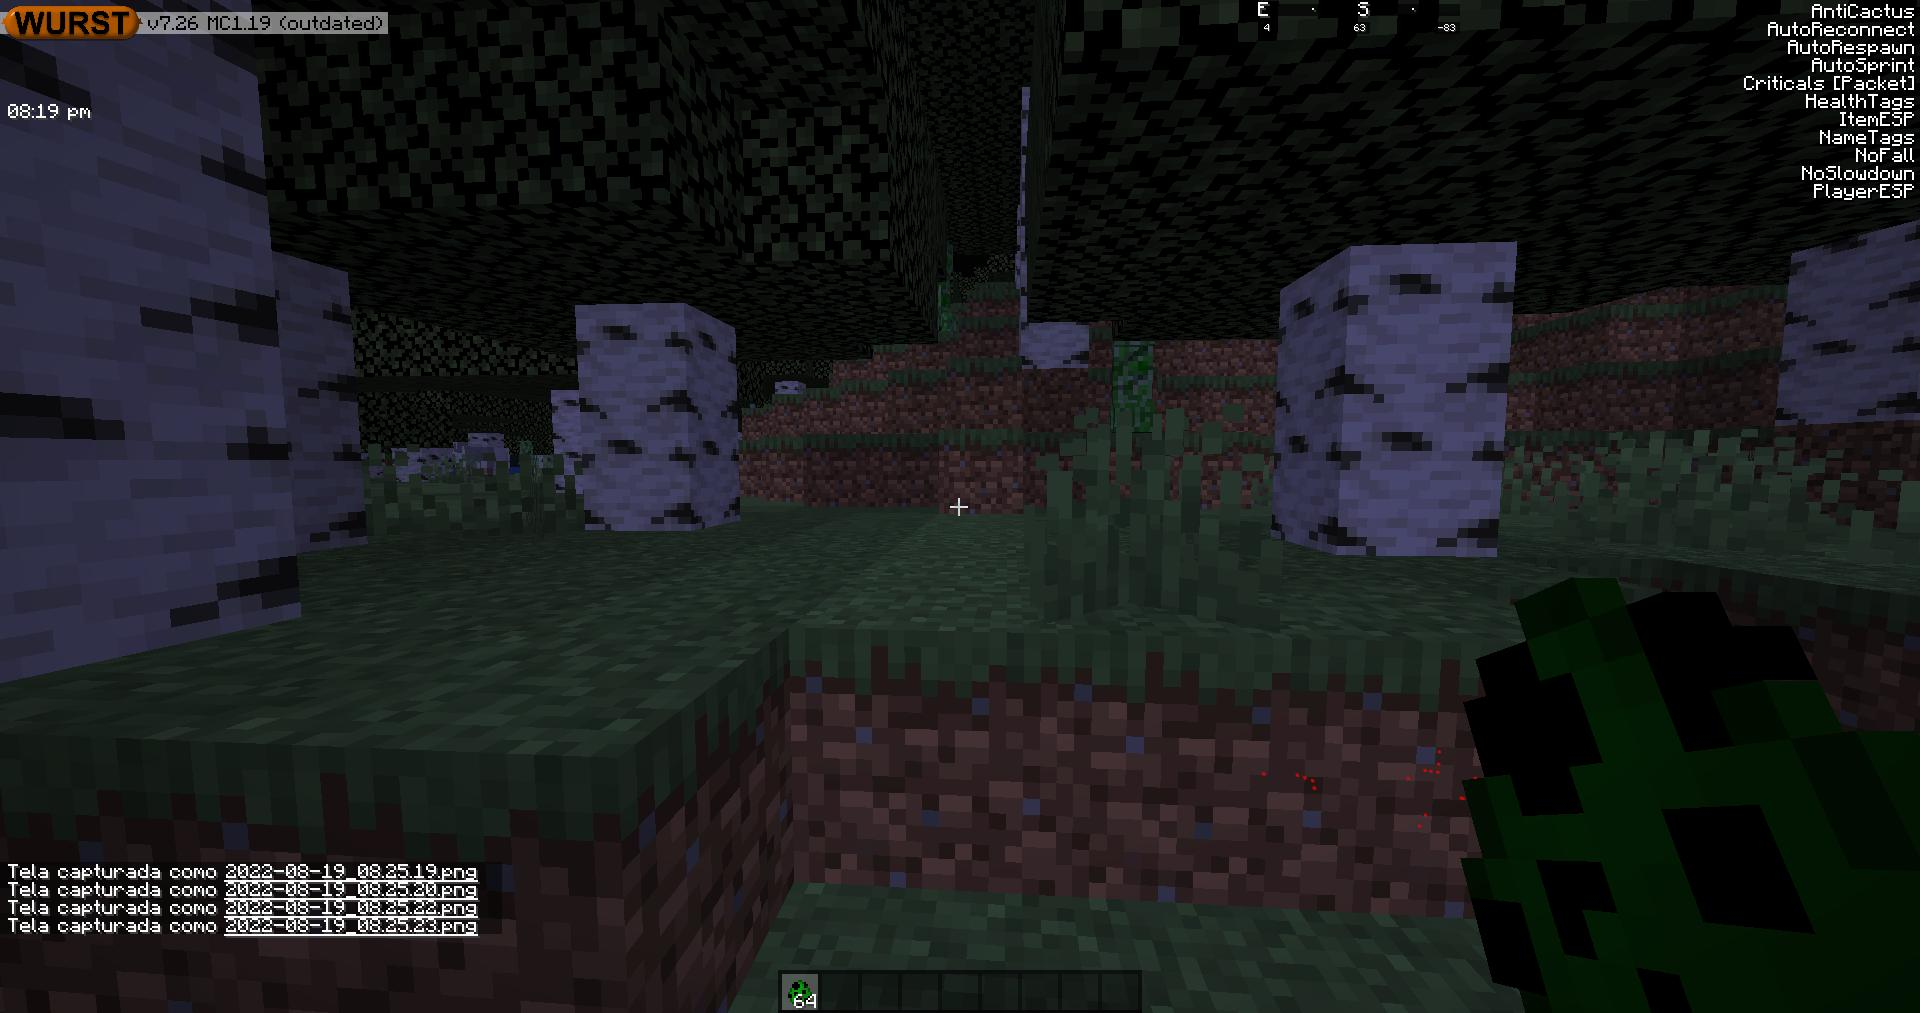creeper: (1106, 335, 1163, 432)
